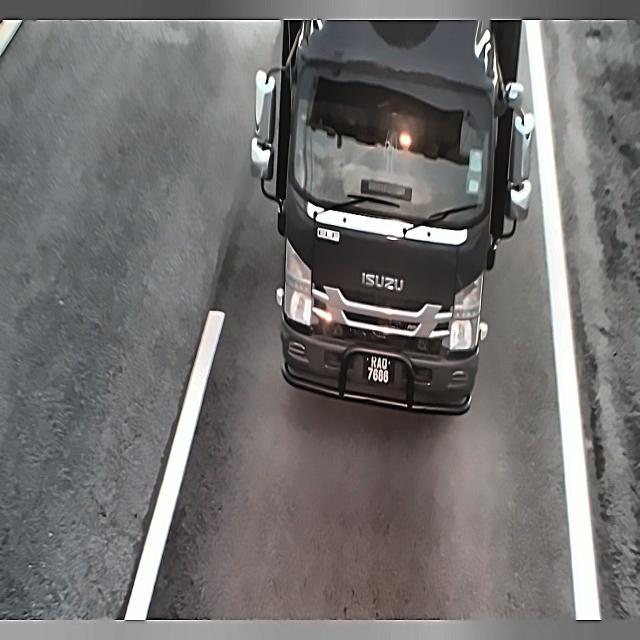car: (360, 347, 397, 395)
